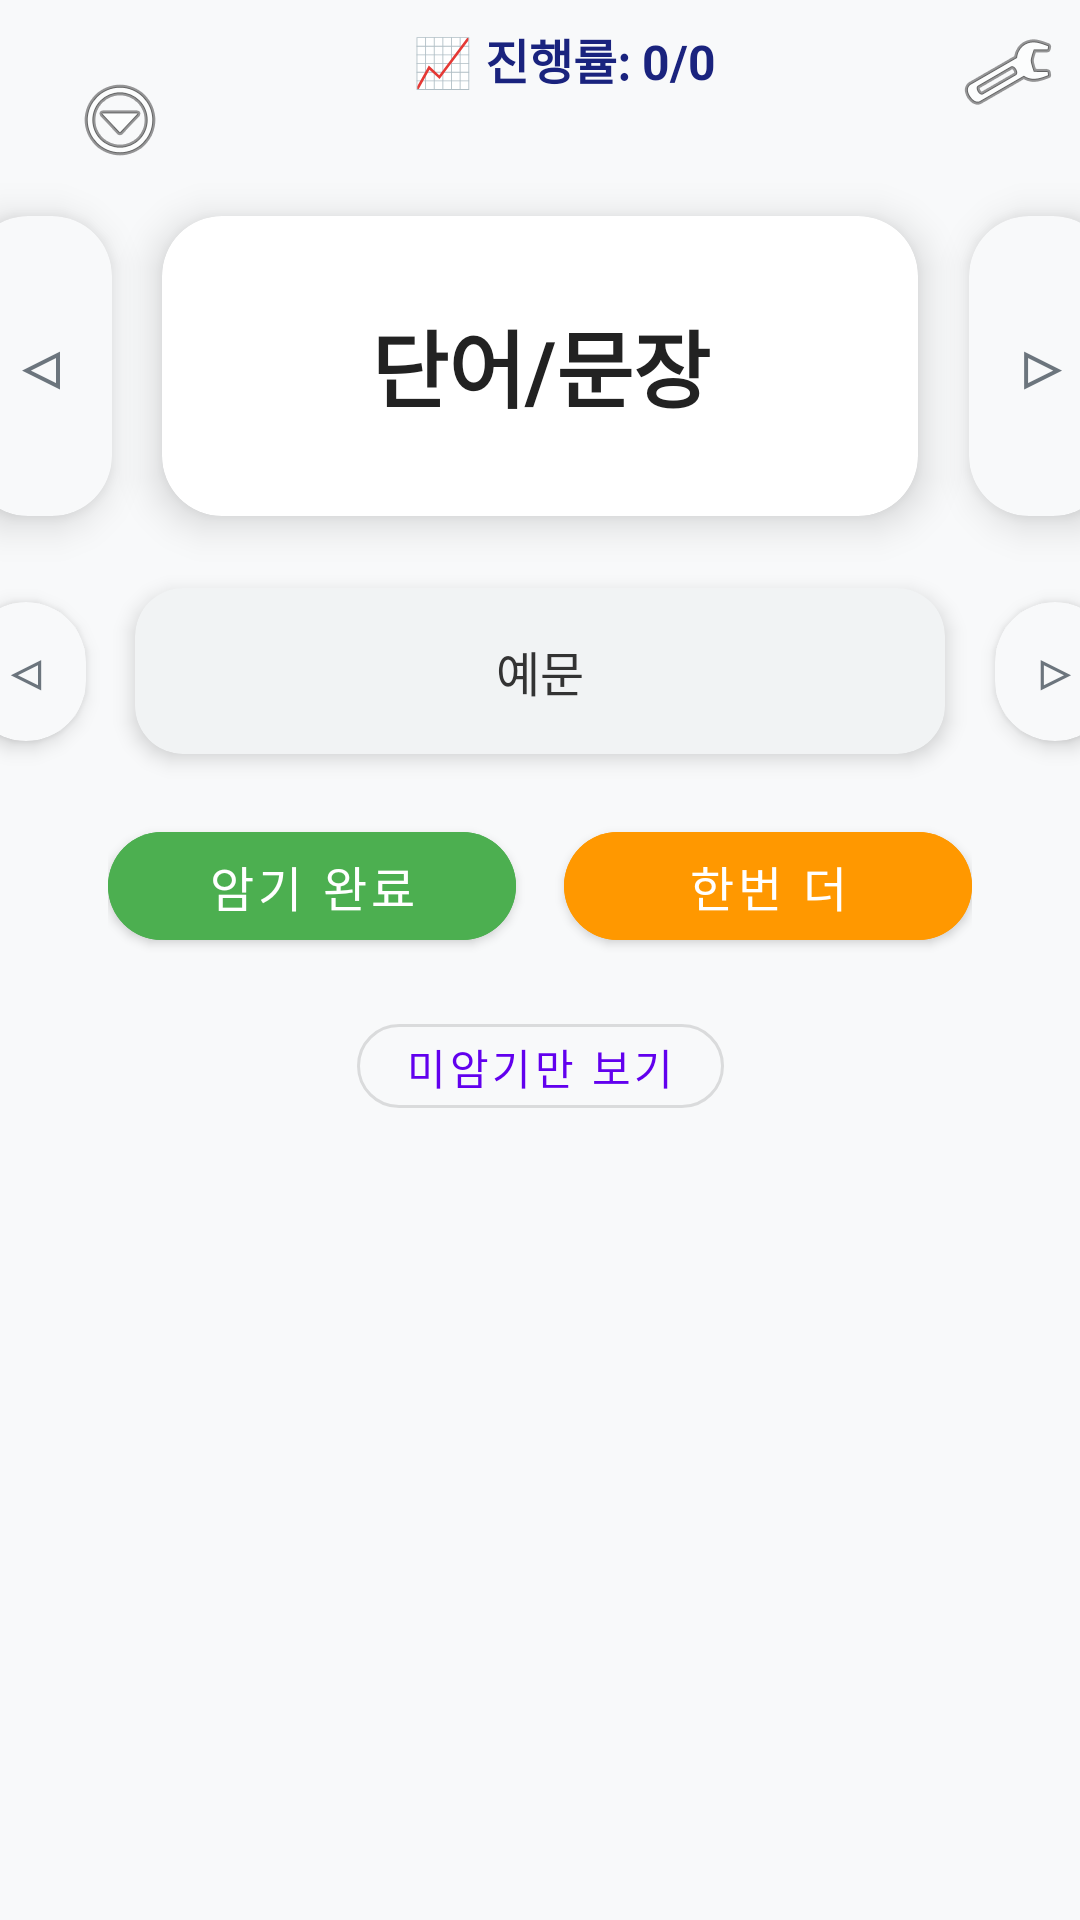

Icon click points for this 1080x1920 phone screenshot, format (x,y):
설정: (1008,72)
